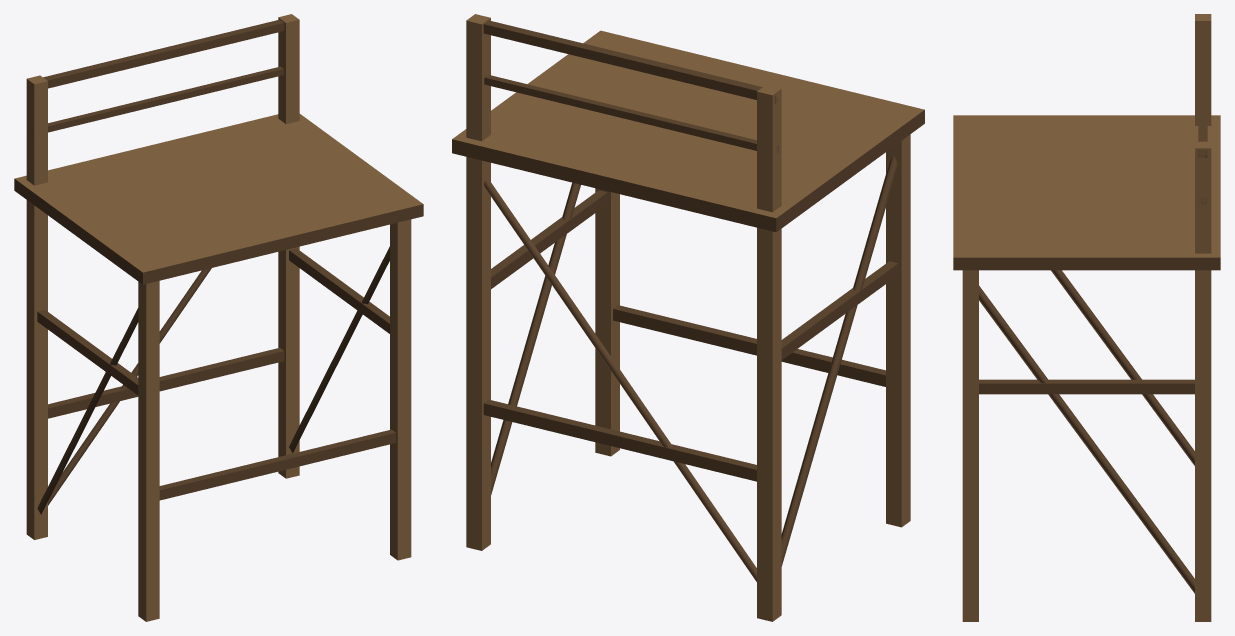
File: scaffold.glb
3 renders of one model, left to right at view 1: azimuth 30°, elevation 25°; view 2: azimuth 150°, elevation 25°; view 3: azimuth 270°, elevation 25°, orthographic. The views are drawn at different scales.
Visible parts, largest first — view 1: scaffold; view 2: scaffold; view 3: scaffold.
Boxes of the visible parts, x1,y1,x2,y2 form: scaffold: (14,14,423,621); scaffold: (452,14,924,621); scaffold: (953,14,1220,621).
Size of the model in its own units: 2.9 by 4.5 by 2.3.
